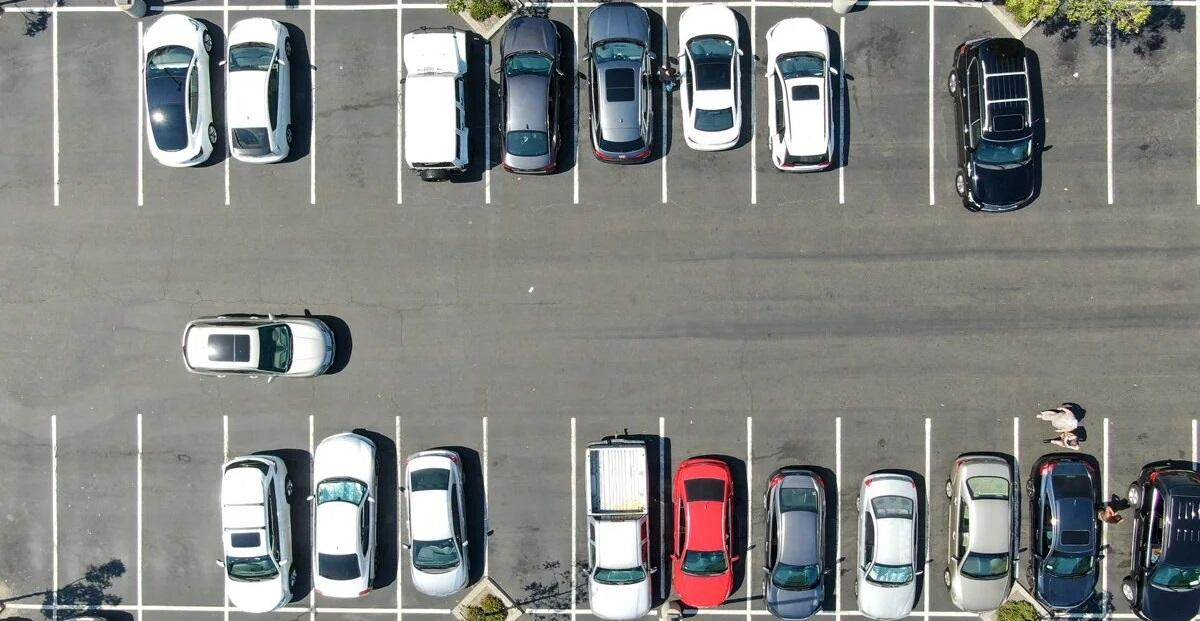occupied: (1104, 421, 1196, 617), (753, 4, 843, 202), (486, 5, 576, 202), (398, 7, 488, 203), (665, 4, 754, 202), (573, 420, 664, 613), (1016, 420, 1106, 615), (576, 5, 665, 202), (749, 420, 839, 613), (839, 420, 929, 613), (398, 418, 487, 612), (311, 418, 400, 611), (927, 420, 1016, 613), (662, 420, 750, 613), (141, 7, 227, 204), (227, 7, 313, 204), (226, 417, 312, 611)
vacant: (842, 3, 932, 203), (1110, 3, 1199, 203), (485, 419, 574, 611), (313, 7, 399, 203), (55, 9, 141, 203), (140, 416, 226, 609), (54, 416, 140, 607)
